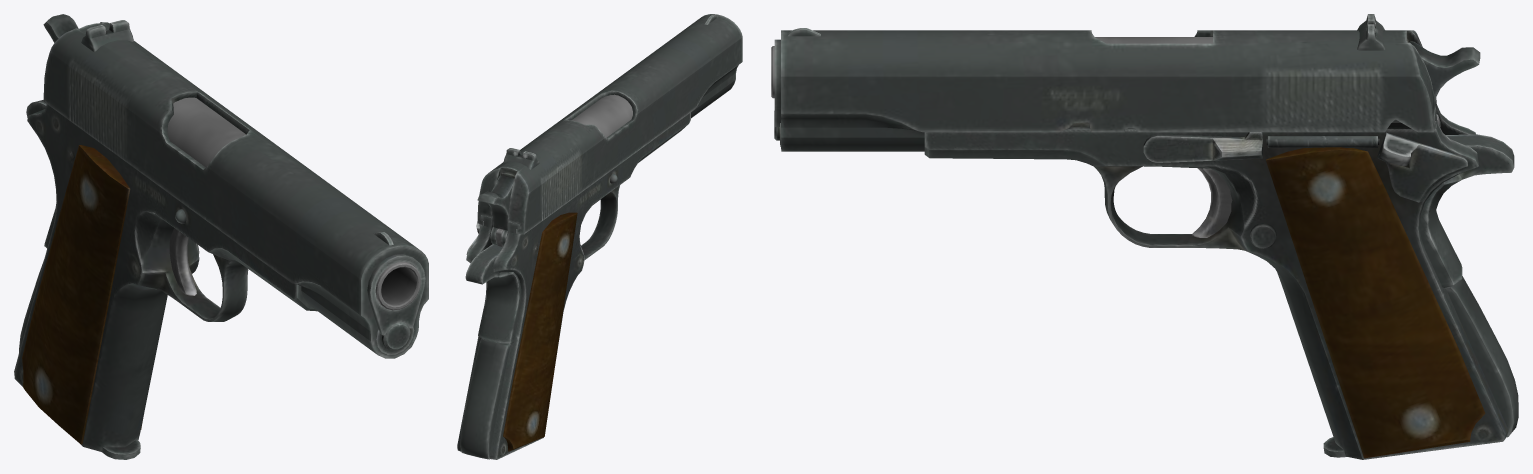
The model's file is Pistol_Klasik.fbx.
The picture shows the model from 3 angles, left to right: view 1: azimuth 30°, elevation 25°; view 2: azimuth 150°, elevation 25°; view 3: azimuth 270°, elevation 25°; orthographic projection. The views are drawn at different scales.
Parts seen in each view (by area): view 1: GunMesh; view 2: GunMesh; view 3: GunMesh.
Boxes of the visible parts, left/top/right/bottom form: GunMesh: left=14, top=14, right=428, bottom=459; GunMesh: left=457, top=14, right=742, bottom=459; GunMesh: left=771, top=14, right=1518, bottom=459.
Bounding box in the file's own units: 0.0314 × 0.1367 × 0.216.
1 material, 1 textured.
